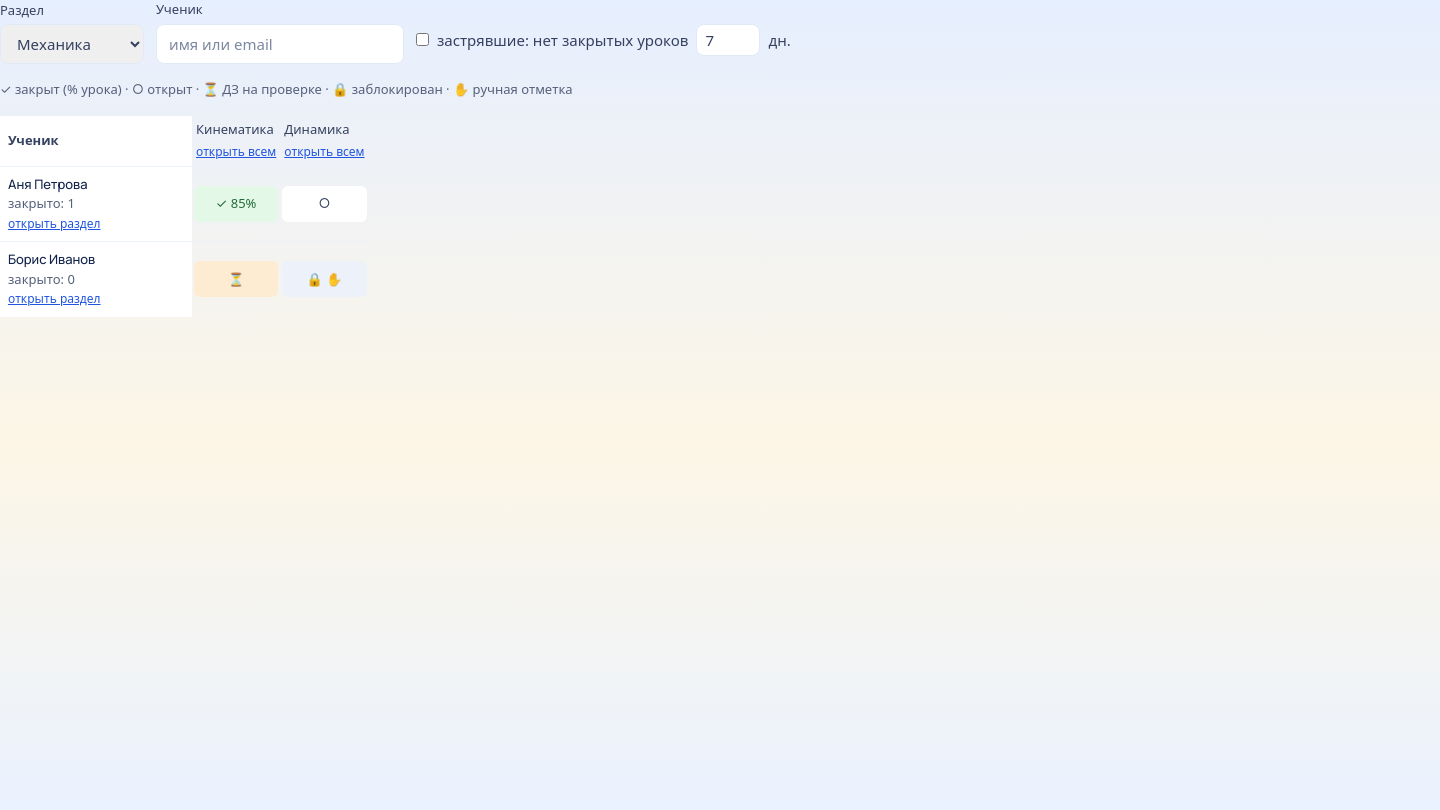
it: «Прохождение» › снять ручную отметку — кнопка есть только при отметке
Step 1. Click the button with test id "progress-cell" showing "○" → (324, 204), box left=282, top=186, right=367, bottom=222
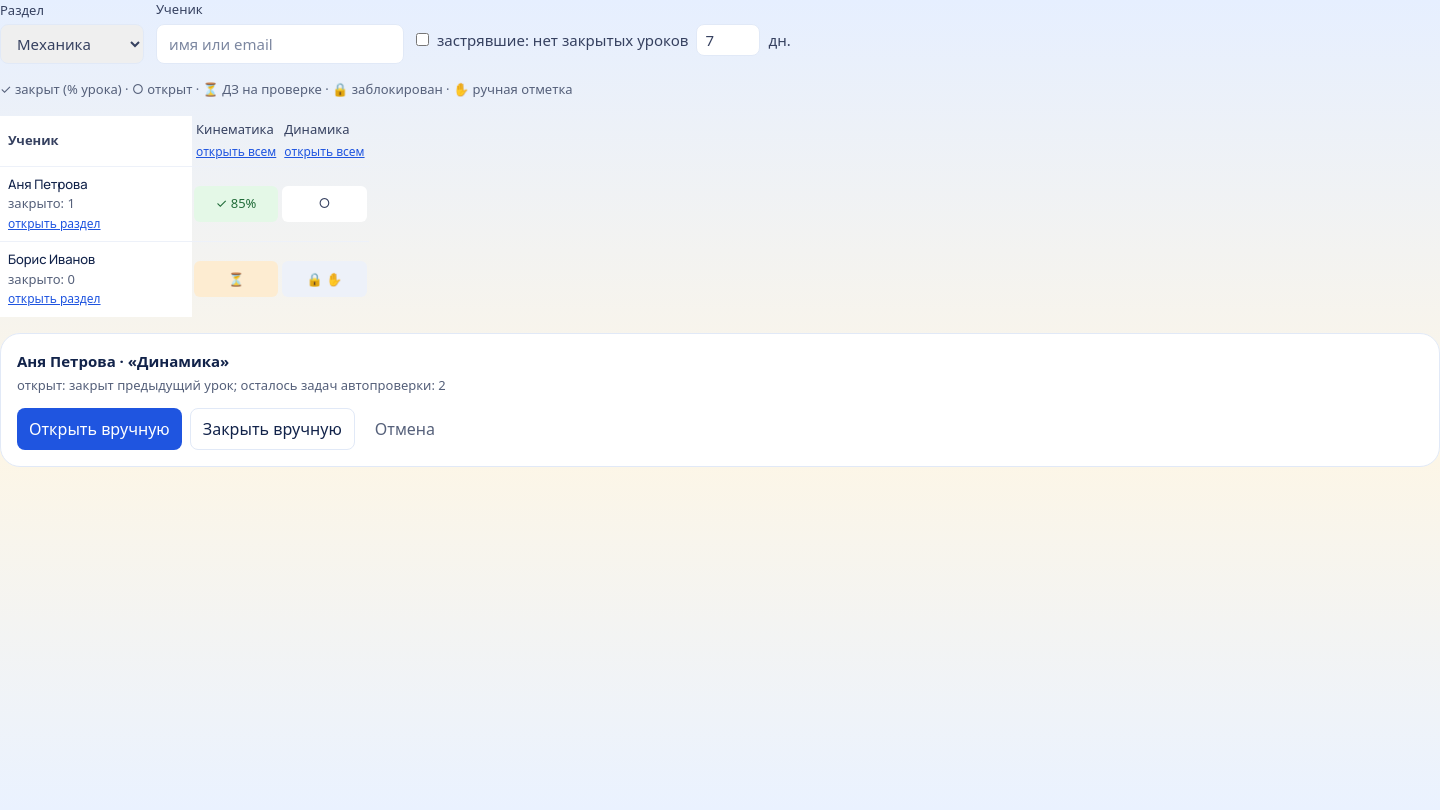
Step 2. Click the button with test id "progress-cell" showing "🔒 ✋" → (324, 279), box left=282, top=261, right=367, bottom=297
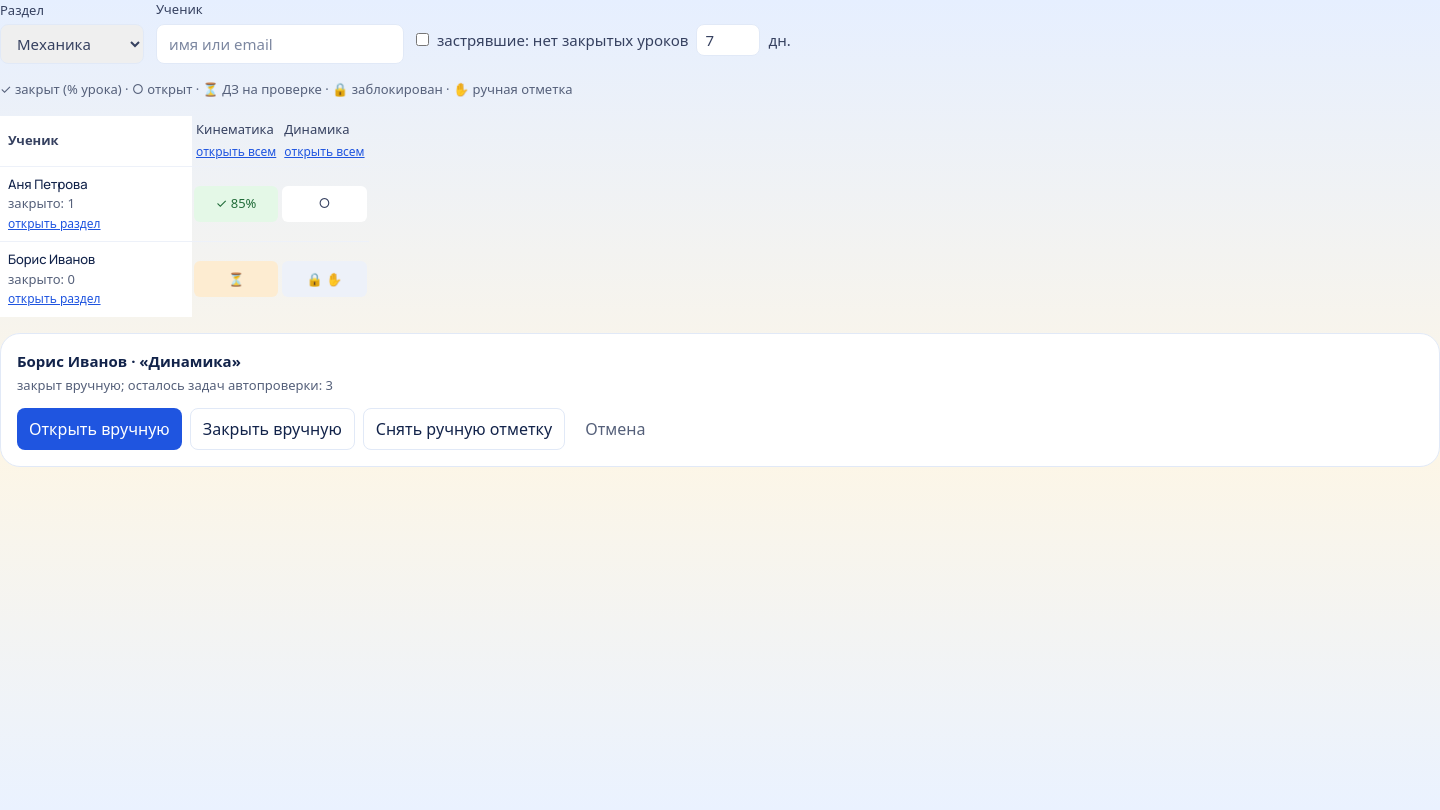
Check: the button with test id "progress-set-clear" is shown, box left=363, top=408, right=565, bottom=450
